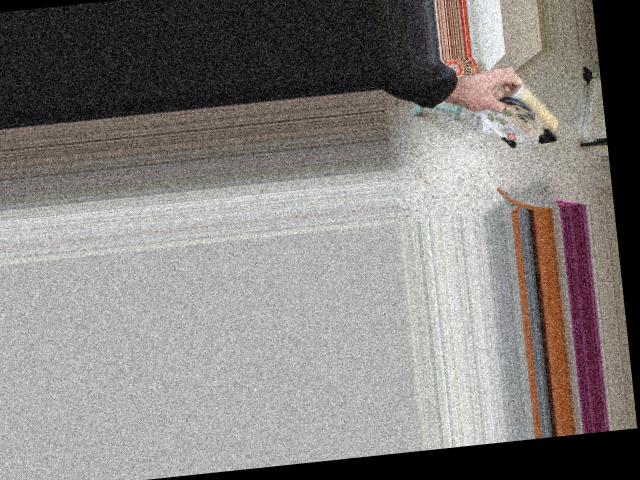cheese: (479, 54, 582, 174)
